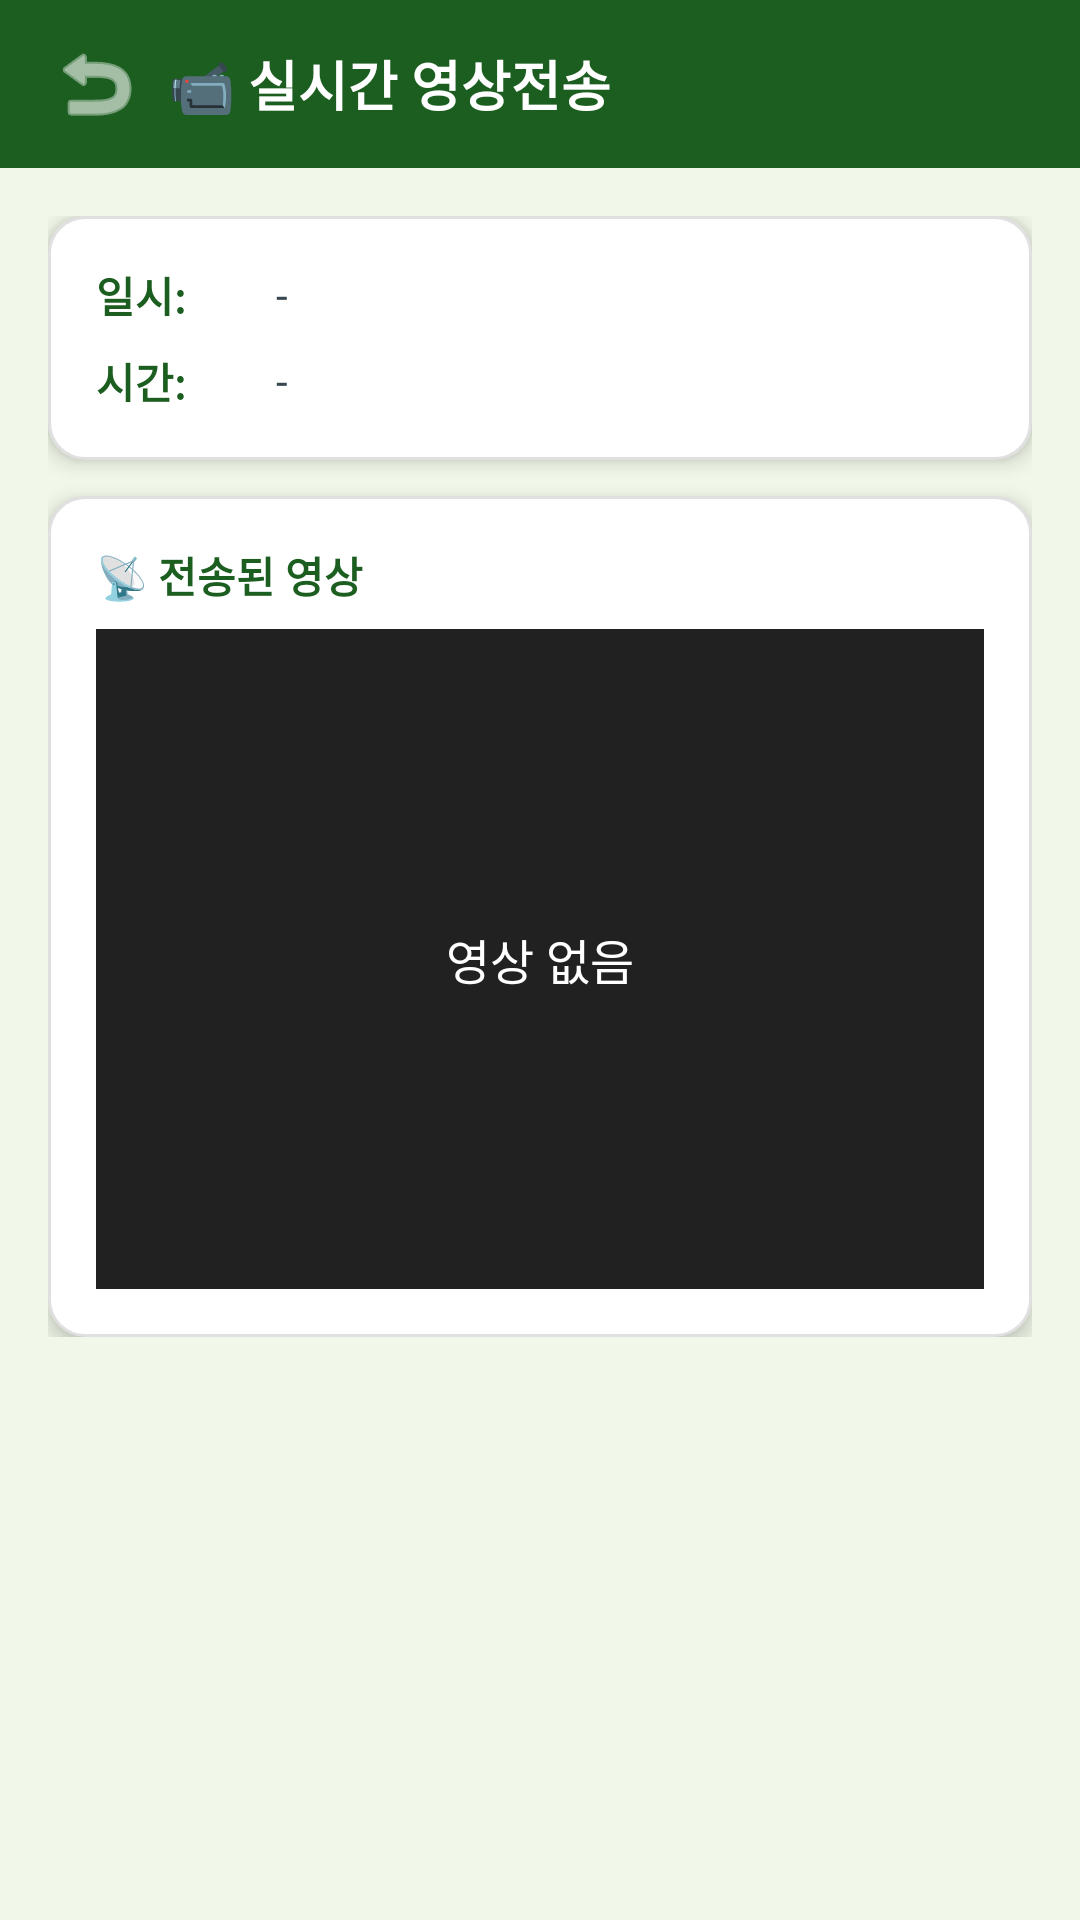

Icon bounding boxes for this 1080*1920 phone screenshot, format {"left": x1, "top": y1, "right": x2, "bottom": y2}:
revert: {"left": 63, "top": 53, "right": 132, "bottom": 116}
